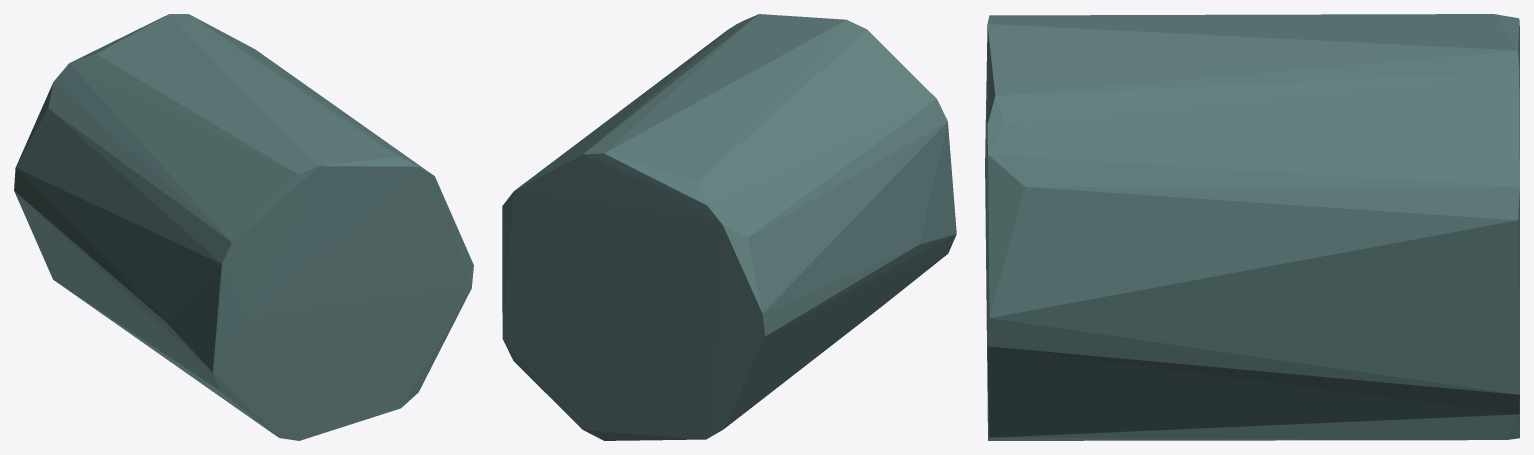
The model's file is food_processed_cannedFood_g01.glb.
3 renders of one model, left to right at view 1: azimuth 30°, elevation 25°; view 2: azimuth 150°, elevation 25°; view 3: azimuth 270°, elevation 25°, orthographic. The views are drawn at different scales.
Visible parts, largest first — view 1: geometry_0; view 2: geometry_0; view 3: geometry_0.
Part boxes in pixels (x1,y1,x2,y2): geometry_0: [14, 14, 473, 440]; geometry_0: [502, 14, 956, 440]; geometry_0: [985, 14, 1519, 440].
Size of the model in its own units: 0.3839 by 0.3792 by 0.48.
